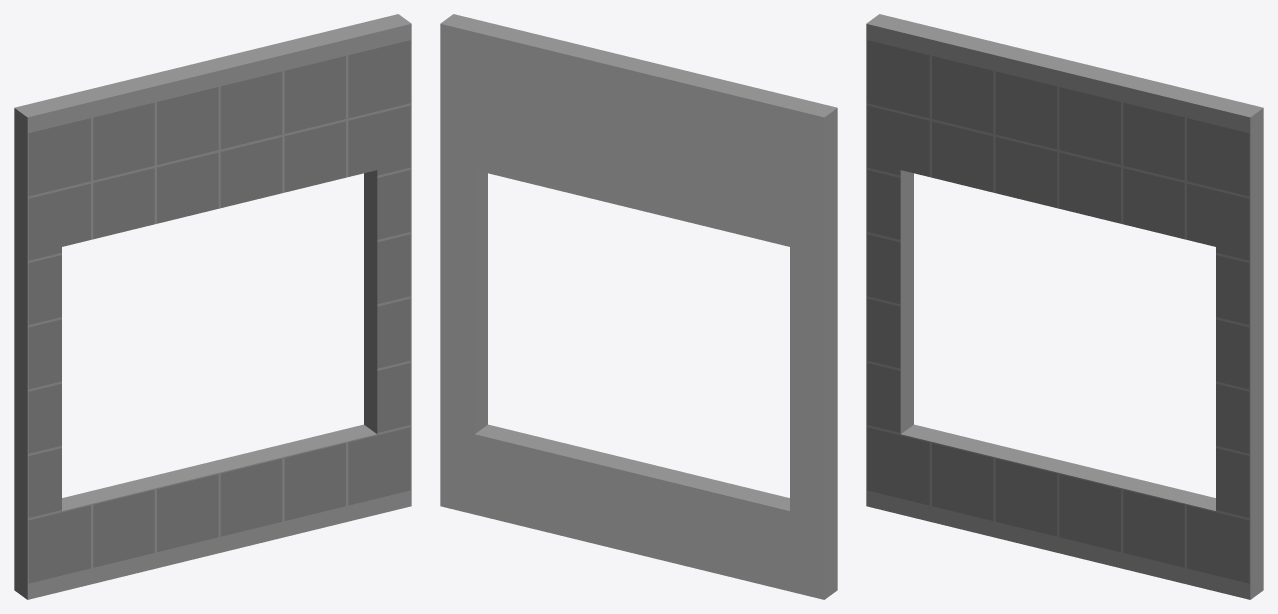
Rendered from Wall1_C7_05.fbx.
3 views of the same model, side by side, from view 1: azimuth 30°, elevation 25°; view 2: azimuth 150°, elevation 25°; view 3: azimuth 330°, elevation 25° (orthographic).
Parts seen in each view (by area): view 1: Wall1_C7_05; view 2: Wall1_C7_05; view 3: Wall1_C7_05.
Boxes of the visible parts, x1=… form: Wall1_C7_05: x1=14, y1=14, x2=411, y2=599; Wall1_C7_05: x1=440, y1=14, x2=837, y2=599; Wall1_C7_05: x1=866, y1=14, x2=1263, y2=599.
Bounding box in the file's own units: 250 × 300 × 15.
